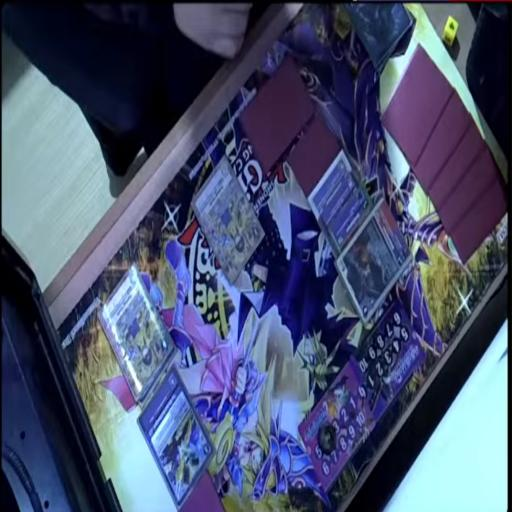card: (138, 365, 214, 509), (99, 265, 175, 401), (336, 198, 412, 322), (192, 156, 264, 282), (326, 183, 374, 257), (318, 170, 359, 233), (309, 154, 349, 216)
